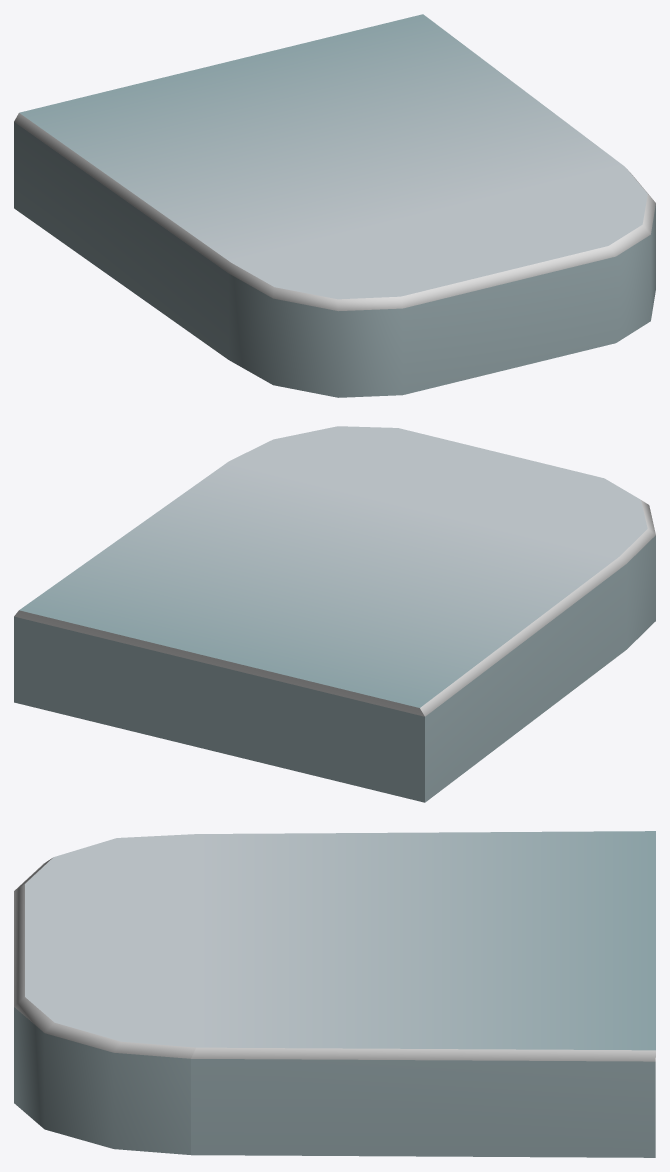
File: PartySupplyStorePlateSmall_0.glb
The picture shows the model from 3 angles, top to bottom: view 1: azimuth 30°, elevation 25°; view 2: azimuth 150°, elevation 25°; view 3: azimuth 270°, elevation 25°; orthographic projection. The views are drawn at different scales.
Visible parts, largest first — view 1: PartySupplyStorePlateSmall; view 2: PartySupplyStorePlateSmall; view 3: PartySupplyStorePlateSmall.
Part boxes in pixels (x1,y1,x2,y2): PartySupplyStorePlateSmall: (14,14,655,397); PartySupplyStorePlateSmall: (14,426,655,802); PartySupplyStorePlateSmall: (14,831,655,1157).
Size of the model in its own units: 1.21 by 0.2637 by 1.46.
